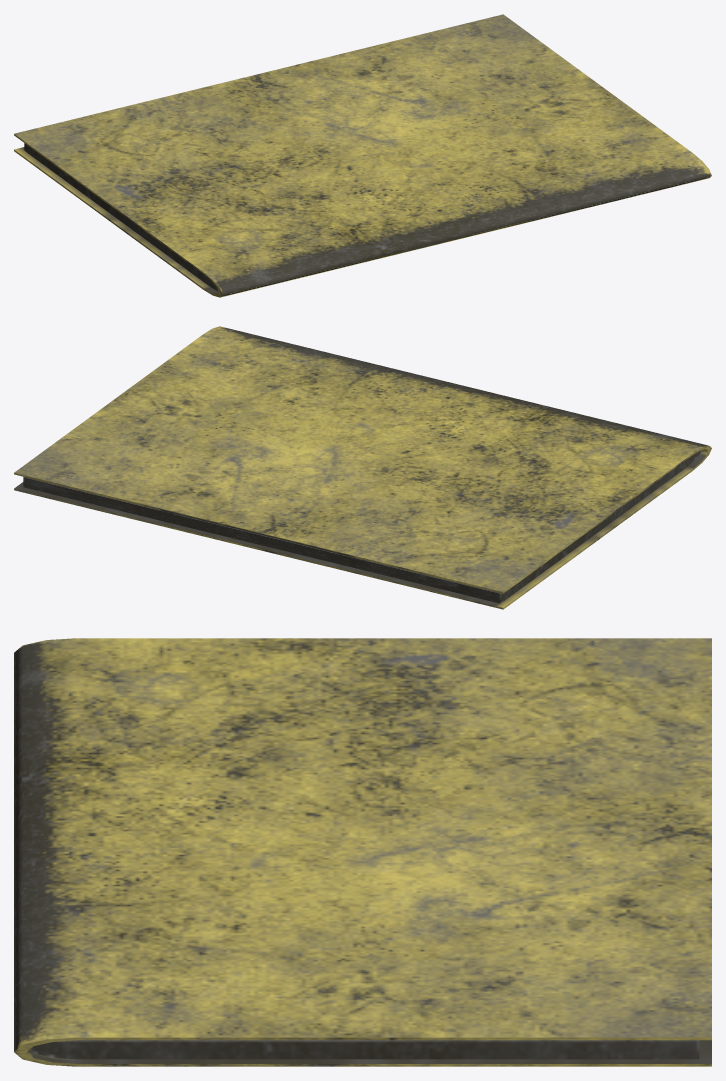
Rendered from SM_Book_4.fbx.
The picture shows the model from 3 angles, top to bottom: view 1: azimuth 30°, elevation 25°; view 2: azimuth 150°, elevation 25°; view 3: azimuth 270°, elevation 25°; orthographic projection. The views are drawn at different scales.
Parts seen in each view (by area): view 1: SM_Book_4_LOD0; view 2: SM_Book_4_LOD0; view 3: SM_Book_4_LOD0.
Boxes of the visible parts, x1,y1,x2,y2 form: SM_Book_4_LOD0: [14, 14, 711, 297]; SM_Book_4_LOD0: [14, 326, 711, 609]; SM_Book_4_LOD0: [14, 638, 711, 1066].
Bounding box in the file's own units: 23.34 × 17.24 × 0.7955.
Materials: 1 (1 with a texture image).
